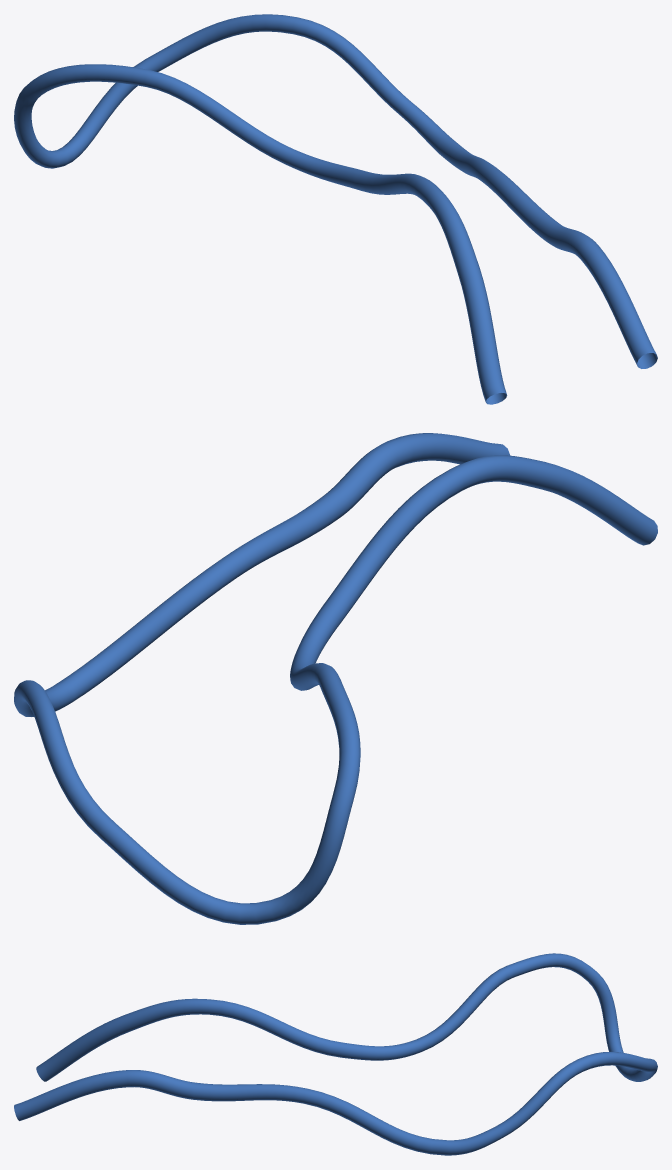
The picture shows the model from 3 angles, top to bottom: view 1: azimuth 30°, elevation 25°; view 2: azimuth 150°, elevation 25°; view 3: azimuth 270°, elevation 25°; orthographic projection. The views are drawn at different scales.
Visible parts, largest first — view 1: 左侧掌浅静脉弓; view 2: 左侧掌浅静脉弓; view 3: 左侧掌浅静脉弓.
Boxes of the visible parts, x1,y1,x2,y2 form: 左侧掌浅静脉弓: (14, 14, 657, 404); 左侧掌浅静脉弓: (14, 433, 657, 924); 左侧掌浅静脉弓: (14, 953, 657, 1155).
Size of the model in its own units: 0.0455 by 0.0189 by 0.0967.
